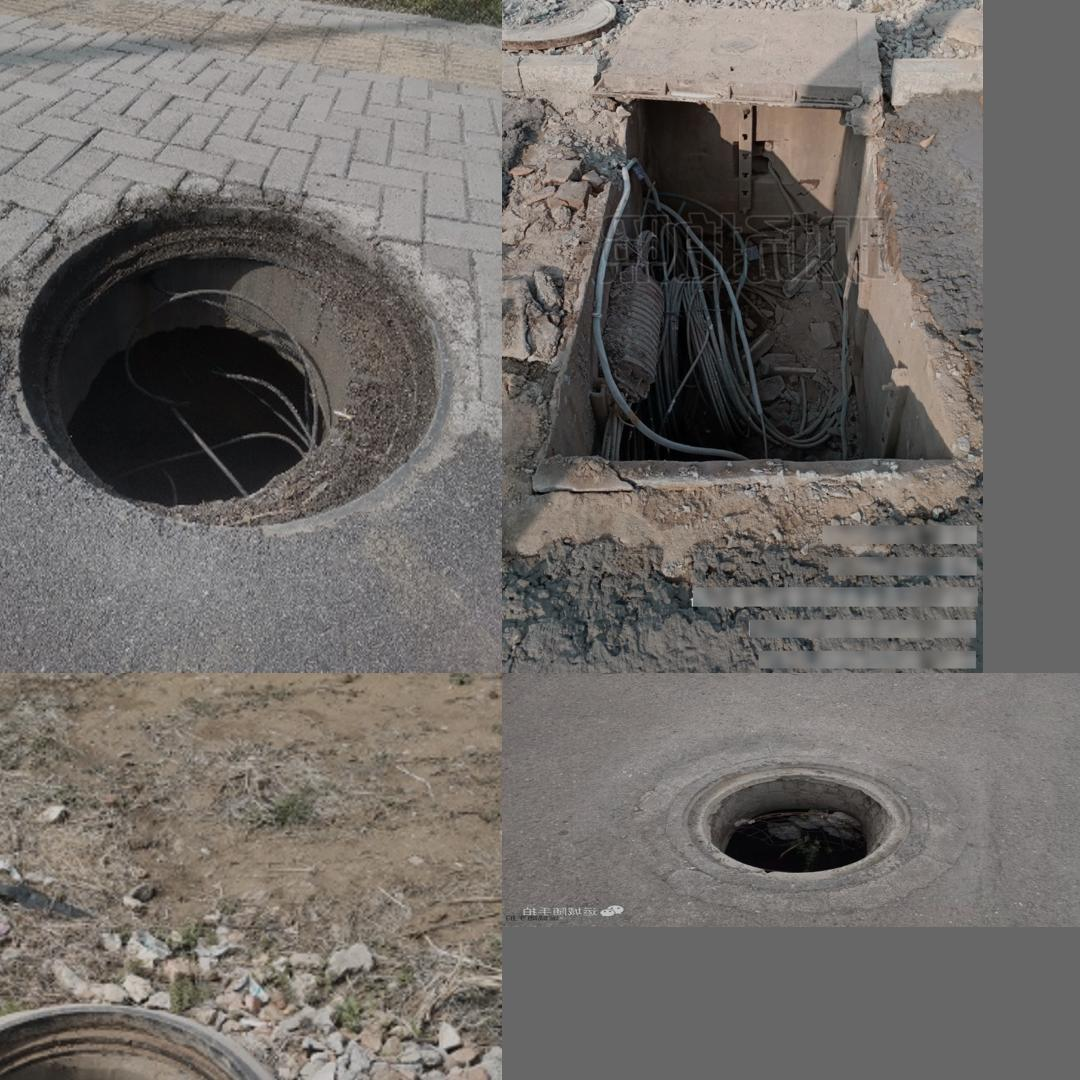lose: (530, 88, 978, 497), (14, 199, 454, 530), (658, 757, 947, 894), (0, 987, 314, 1080)
